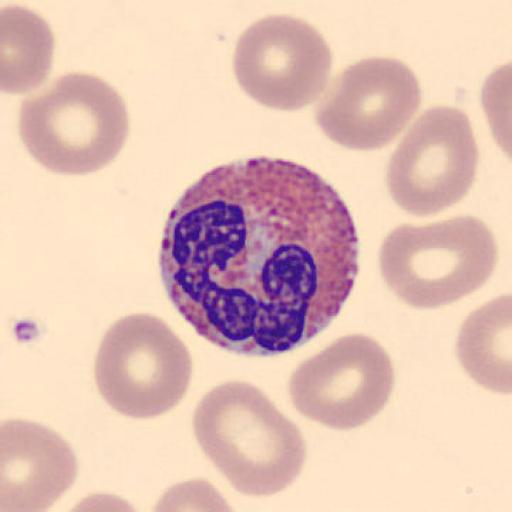RBC: (190, 377, 308, 499), (17, 70, 131, 178), (378, 213, 498, 312), (91, 309, 193, 422), (287, 331, 397, 432), (385, 103, 480, 219), (230, 11, 334, 113), (314, 54, 422, 152), (2, 416, 80, 512), (453, 291, 512, 396), (2, 3, 56, 96), (479, 58, 512, 166), (149, 476, 240, 512), (44, 489, 148, 512)
WBC: (158, 155, 364, 357)
